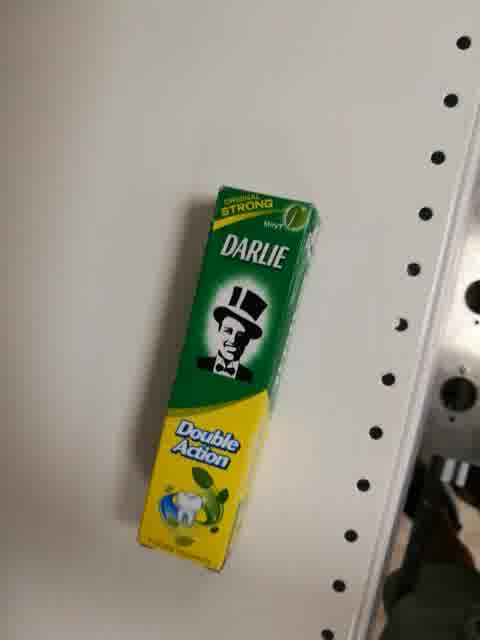toothpaste: (136, 184, 321, 576)
